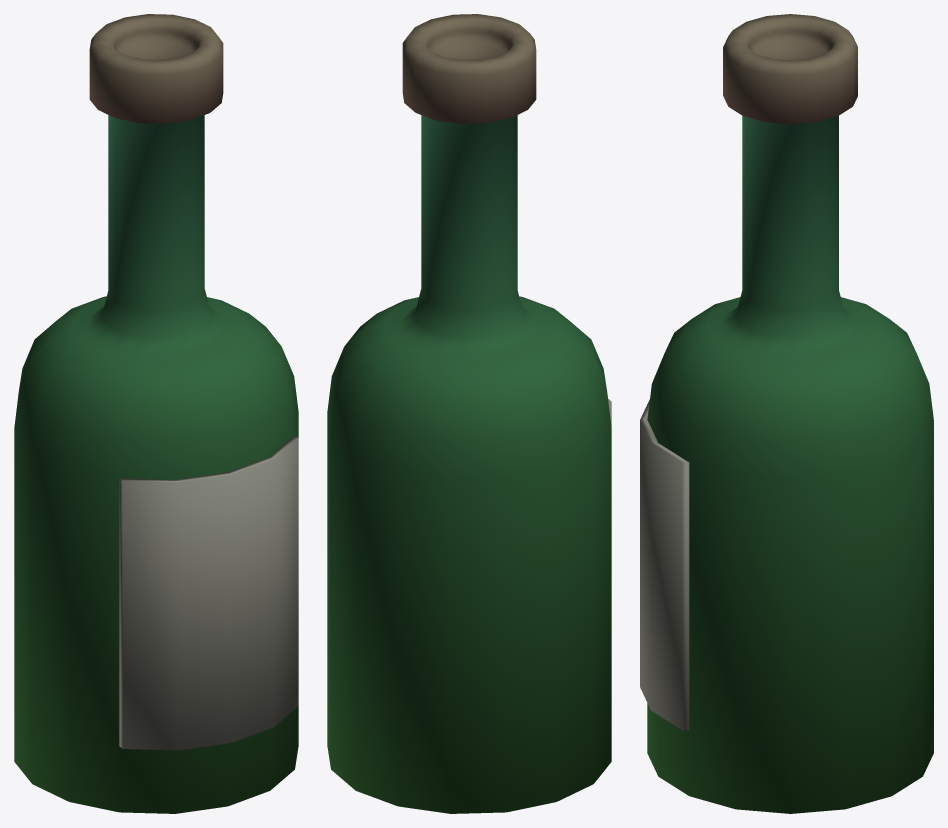
File: bottle.fbx
The picture shows the model from 3 angles, left to right: view 1: azimuth 30°, elevation 25°; view 2: azimuth 150°, elevation 25°; view 3: azimuth 270°, elevation 25°; orthographic projection.
Visible parts, largest first — view 1: bottle; view 2: bottle; view 3: bottle.
Boxes of the visible parts, box(x1,y1,x2,y2) form: bottle: box(14, 14, 298, 813); bottle: box(327, 14, 611, 813); bottle: box(640, 14, 933, 813).
Bounding box in the file's own units: 35.37 × 97.13 × 36.27.
